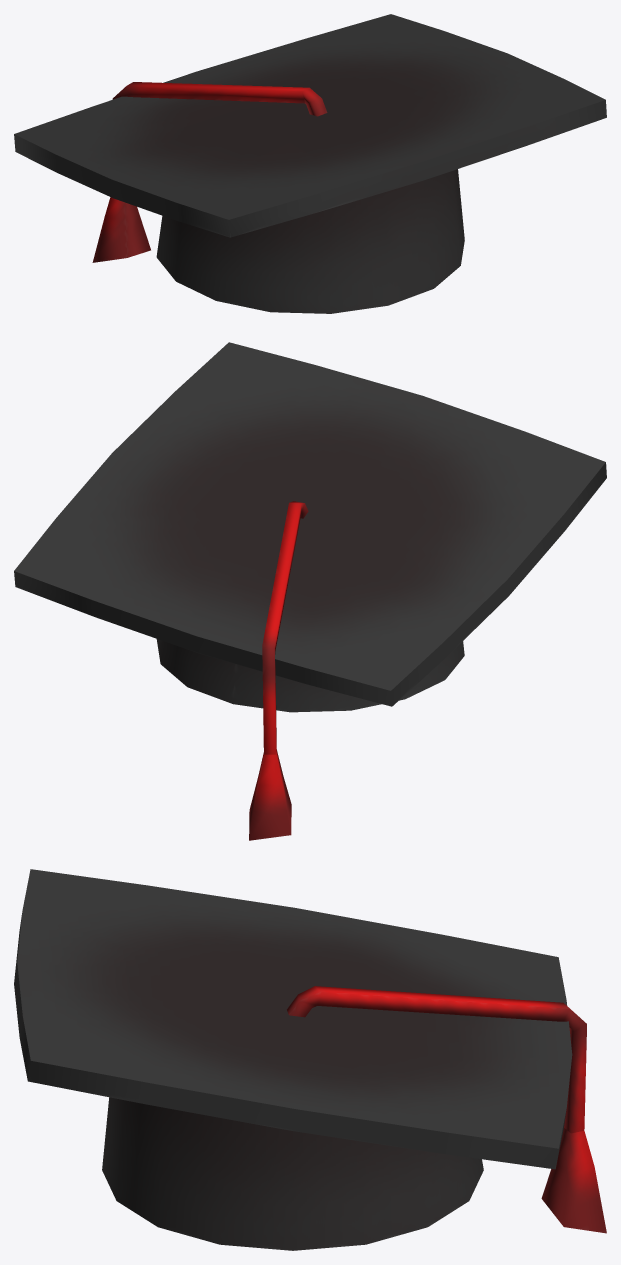
Rendered from Bachelor.glb.
3 views of the same model, one above another, from view 1: azimuth 30°, elevation 25°; view 2: azimuth 150°, elevation 25°; view 3: azimuth 270°, elevation 25° (orthographic). The views are drawn at different scales.
Parts seen in each view (by area): view 1: m_BachelorHat01; view 2: m_BachelorHat01; view 3: m_BachelorHat01.
Boxes of the visible parts, x1=… form: m_BachelorHat01: x1=14, y1=14, x2=606, y2=313; m_BachelorHat01: x1=14, y1=342, x2=606, y2=840; m_BachelorHat01: x1=14, y1=869, x2=606, y2=1250.
Bounding box in the file's own units: 0.6339 × 0.4051 × 0.6691.
1 material, 1 textured.
